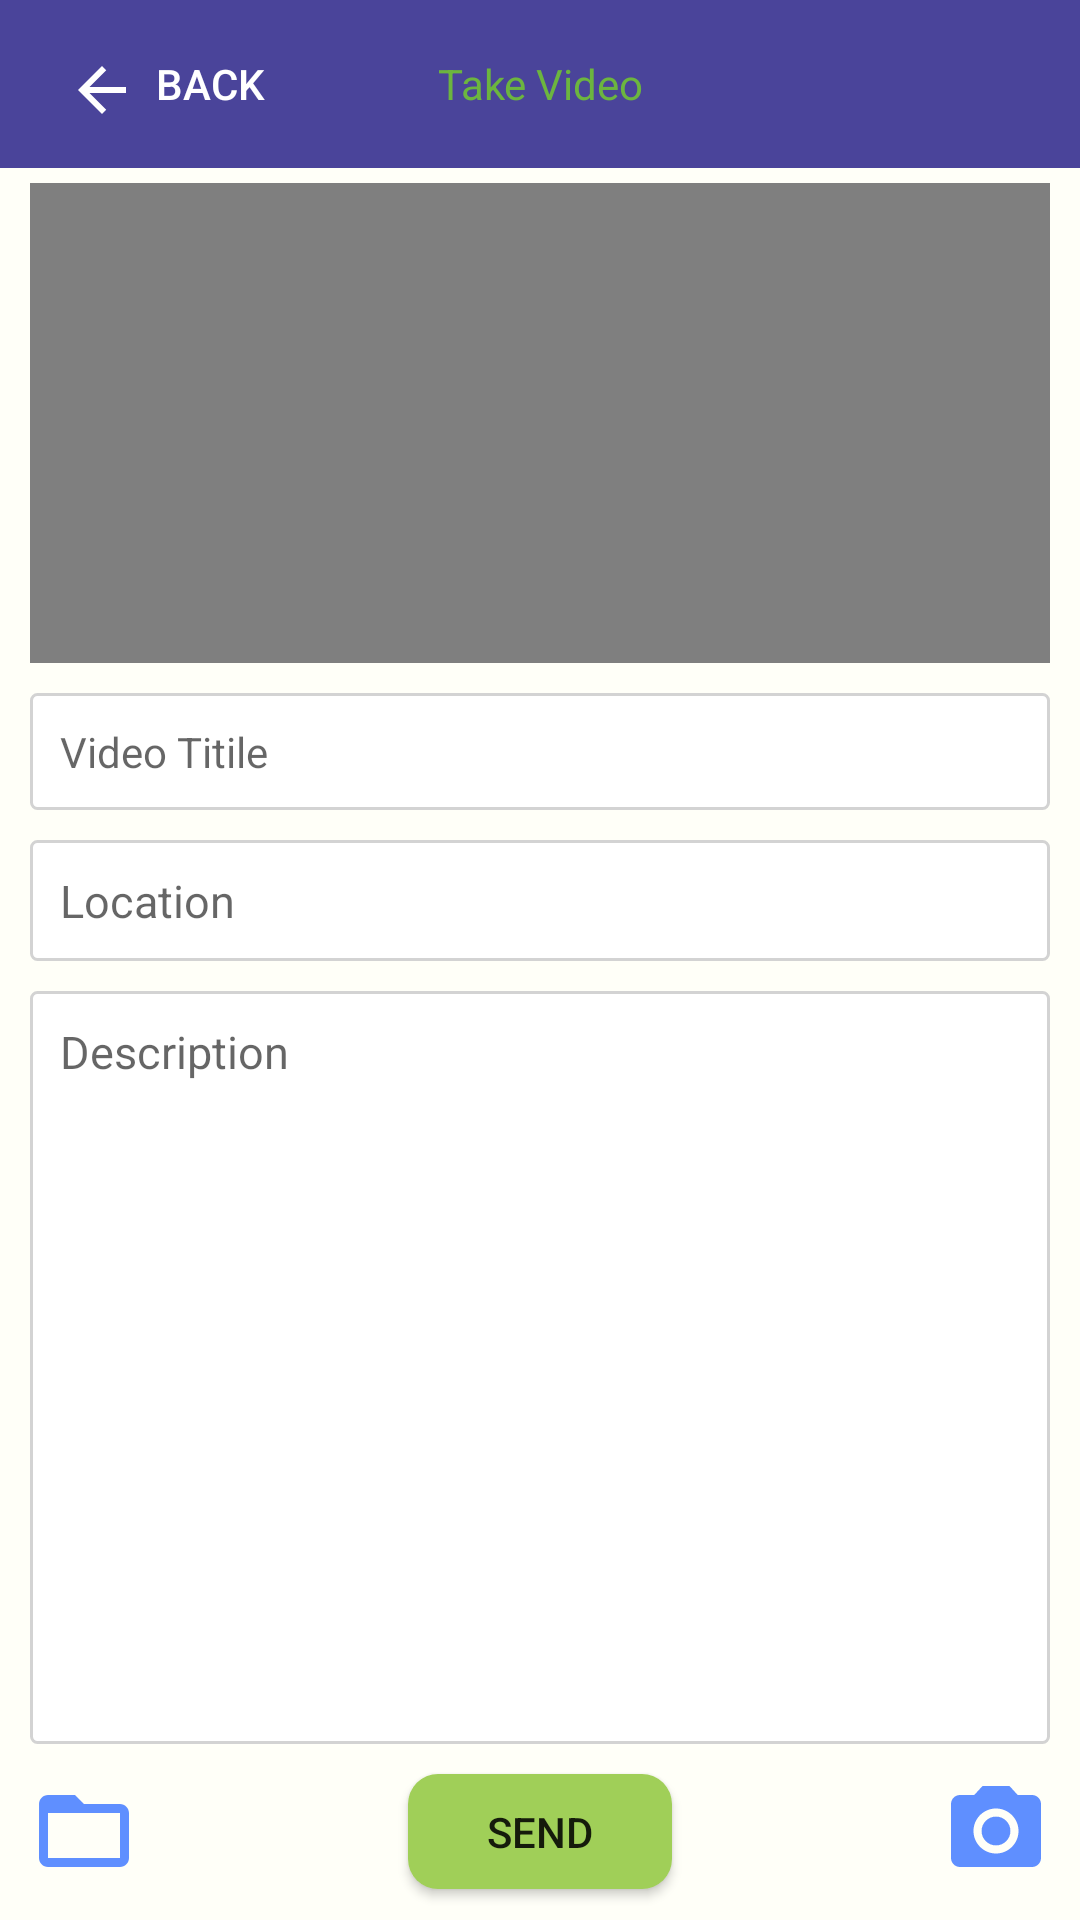

Icons on this 1080w x 1920h Android screen, each with its box as (x1, y1, x2, y2):
camera: (951, 1786, 1041, 1867)
library: (39, 1795, 129, 1867)
